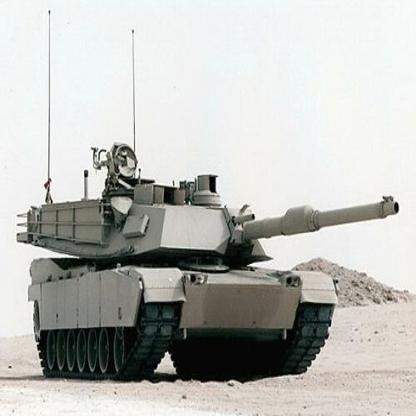Tank: (11, 139, 403, 378)
